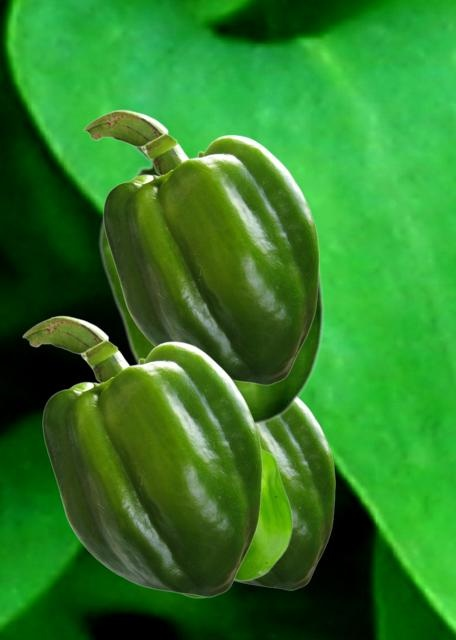bell_pepper: (22, 315, 261, 596), (83, 109, 318, 384), (98, 146, 324, 425), (235, 398, 334, 589), (183, 447, 292, 597)
